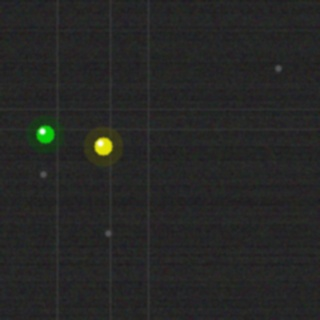green_normal: (34, 123, 56, 145)
yellow_warning: (92, 135, 114, 157)
